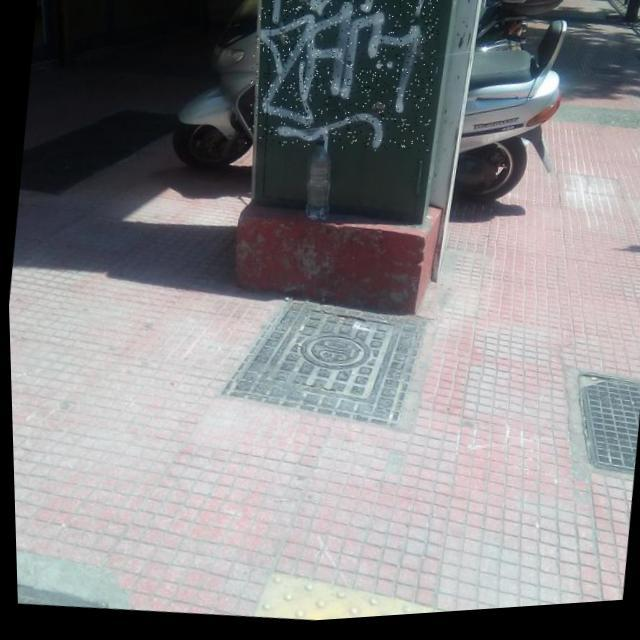-: (240, 0, 446, 168)
